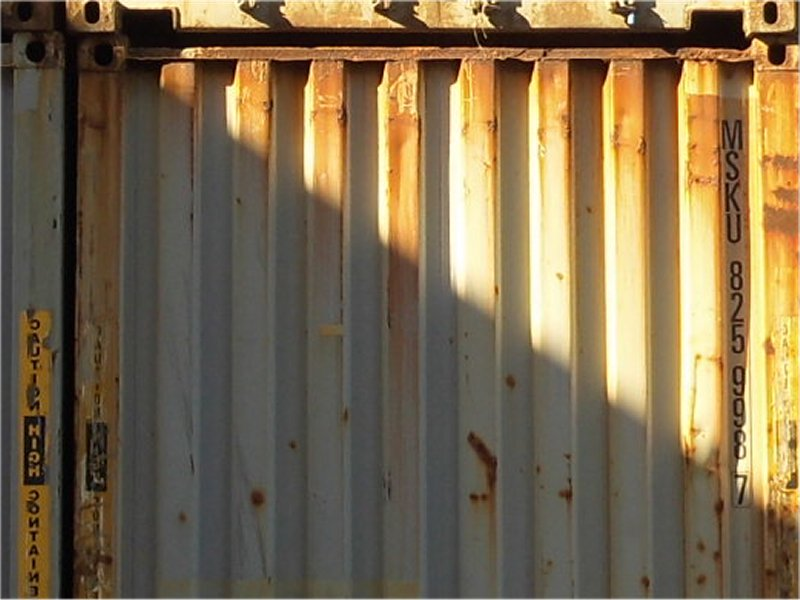container_no_door: (82, 39, 800, 598)
